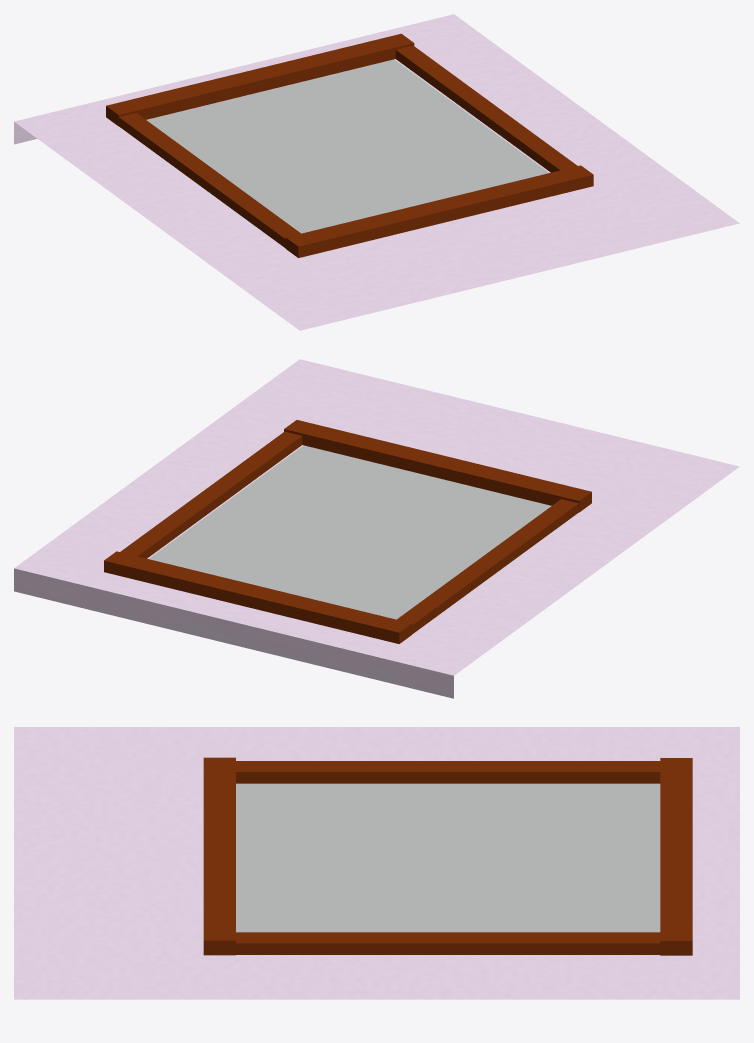
Rendered from RealRoomInsideWindowWall_MeetingRoom.fbx.
3 renders of one model, top to bottom at view 1: azimuth 30°, elevation 25°; view 2: azimuth 150°, elevation 25°; view 3: azimuth 270°, elevation 25°, orthographic. The views are drawn at different scales.
Parts seen in each view (by area): view 1: Wall_Window.082; view 2: Wall_Window.082; view 3: Wall_Window.082.
Boxes of the visible parts, x1,y1,x2,y2 form: Wall_Window.082: [14, 14, 739, 330]; Wall_Window.082: [14, 359, 739, 698]; Wall_Window.082: [14, 727, 739, 999].
Size of the model in its own units: 2 by 0.1502 by 2.25.
